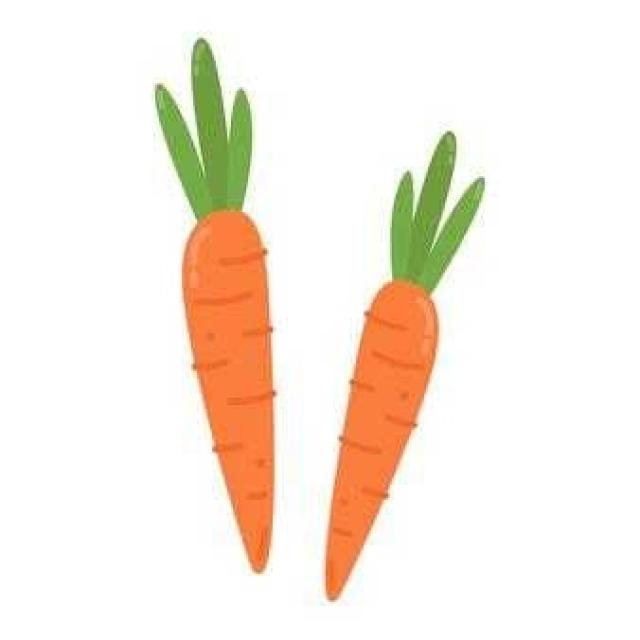carrots: (161, 210, 292, 578), (321, 285, 468, 605)
